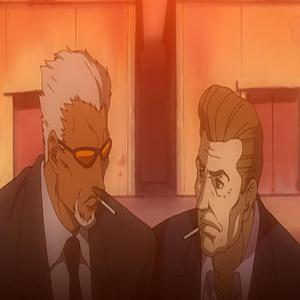cigarette: (182, 223, 208, 241), (95, 194, 117, 215)
